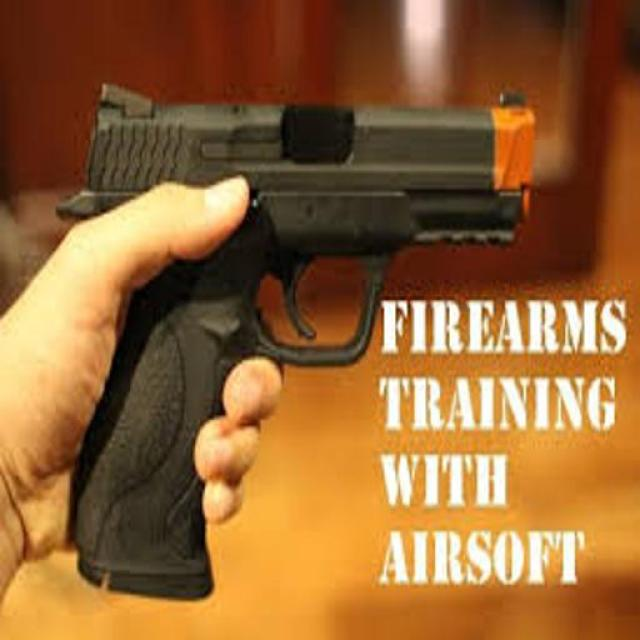pistol: (55, 72, 532, 580)
